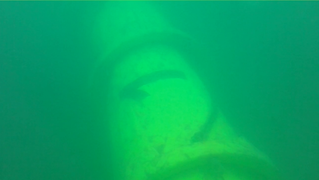1: (118, 69, 187, 102)
pipe: (87, 1, 280, 179)
